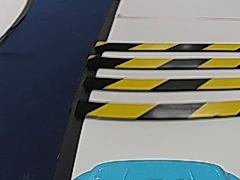bump: (83, 33, 239, 119), (82, 76, 239, 125)
